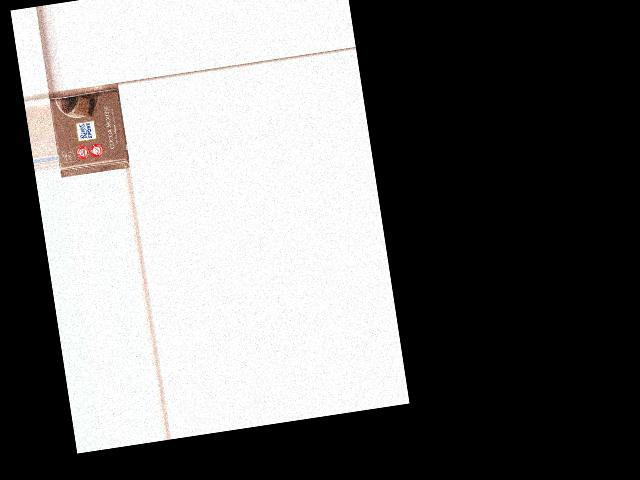chocolate: (48, 82, 131, 176)
